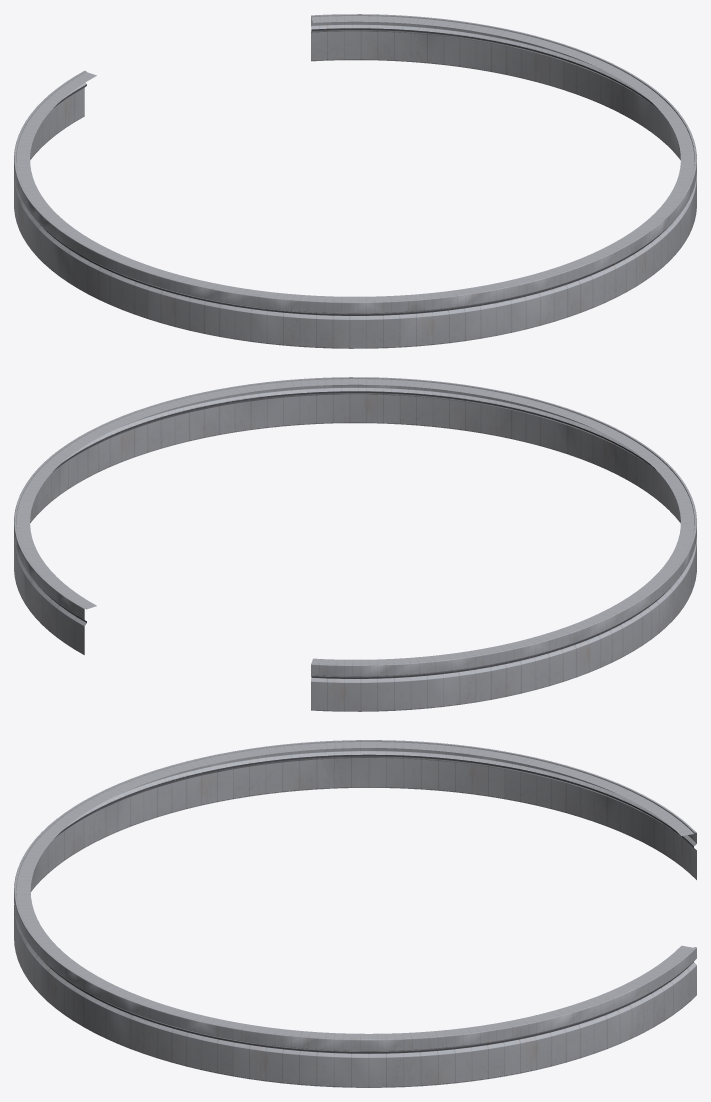
The model's file is OuterWall.dae.
The picture shows the model from 3 angles, top to bottom: view 1: azimuth 30°, elevation 25°; view 2: azimuth 150°, elevation 25°; view 3: azimuth 270°, elevation 25°; orthographic projection. The views are drawn at different scales.
Visible parts, largest first — view 1: OuterWall; view 2: OuterWall; view 3: OuterWall.
Boxes of the visible parts, x1=… form: OuterWall: x1=14, y1=14, x2=696, y2=348; OuterWall: x1=14, y1=377, x2=696, y2=711; OuterWall: x1=14, y1=740, x2=696, y2=1087.
Size of the model in its own units: 208 by 200 by 15.54.
